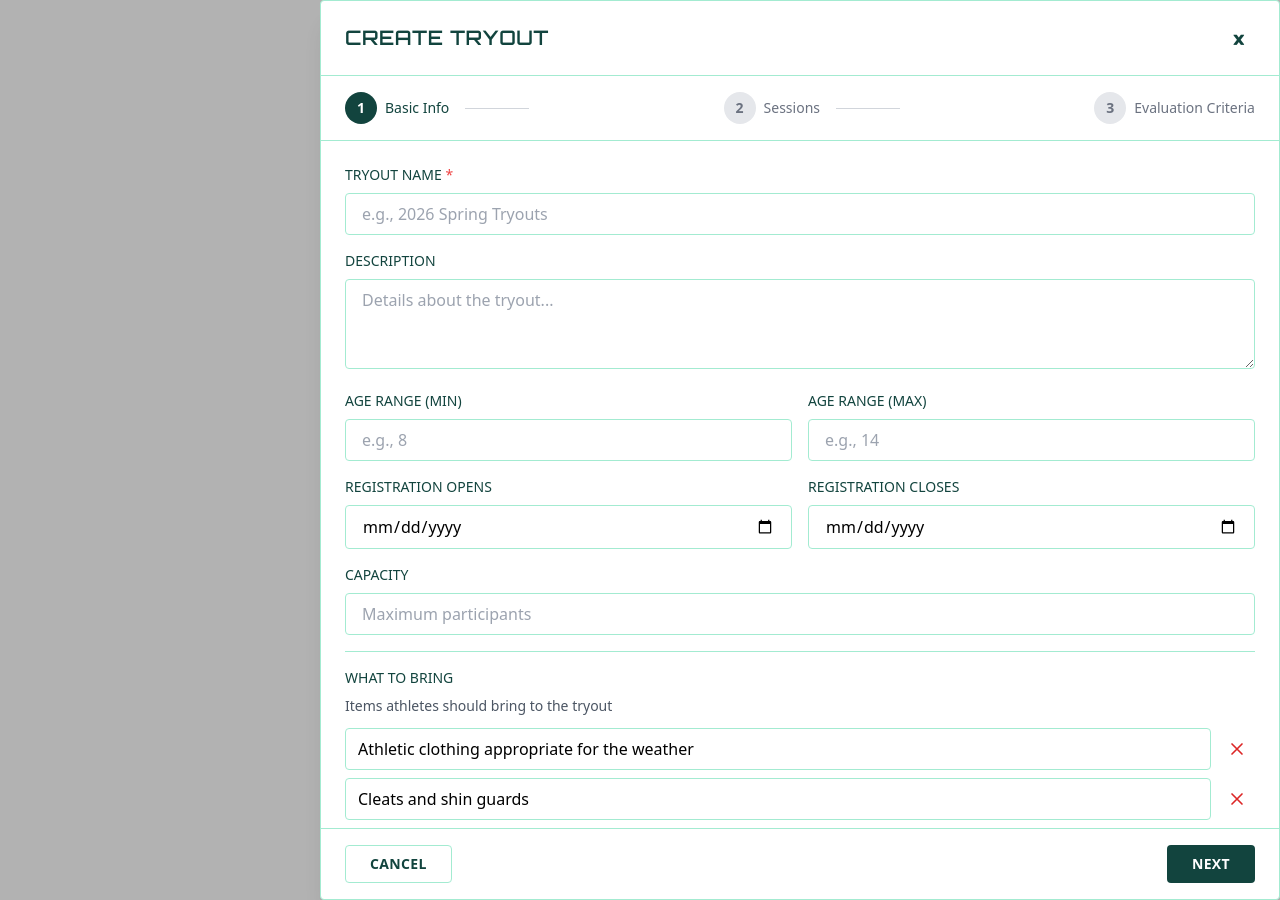
Test case: TryoutCreationWizard › can add sessions in step 2
Step 1. Type "Test Tryout" into the field with placeholder "e.g., 2026 Spring Tryouts" → (800, 214), box [345,193,1255,235]
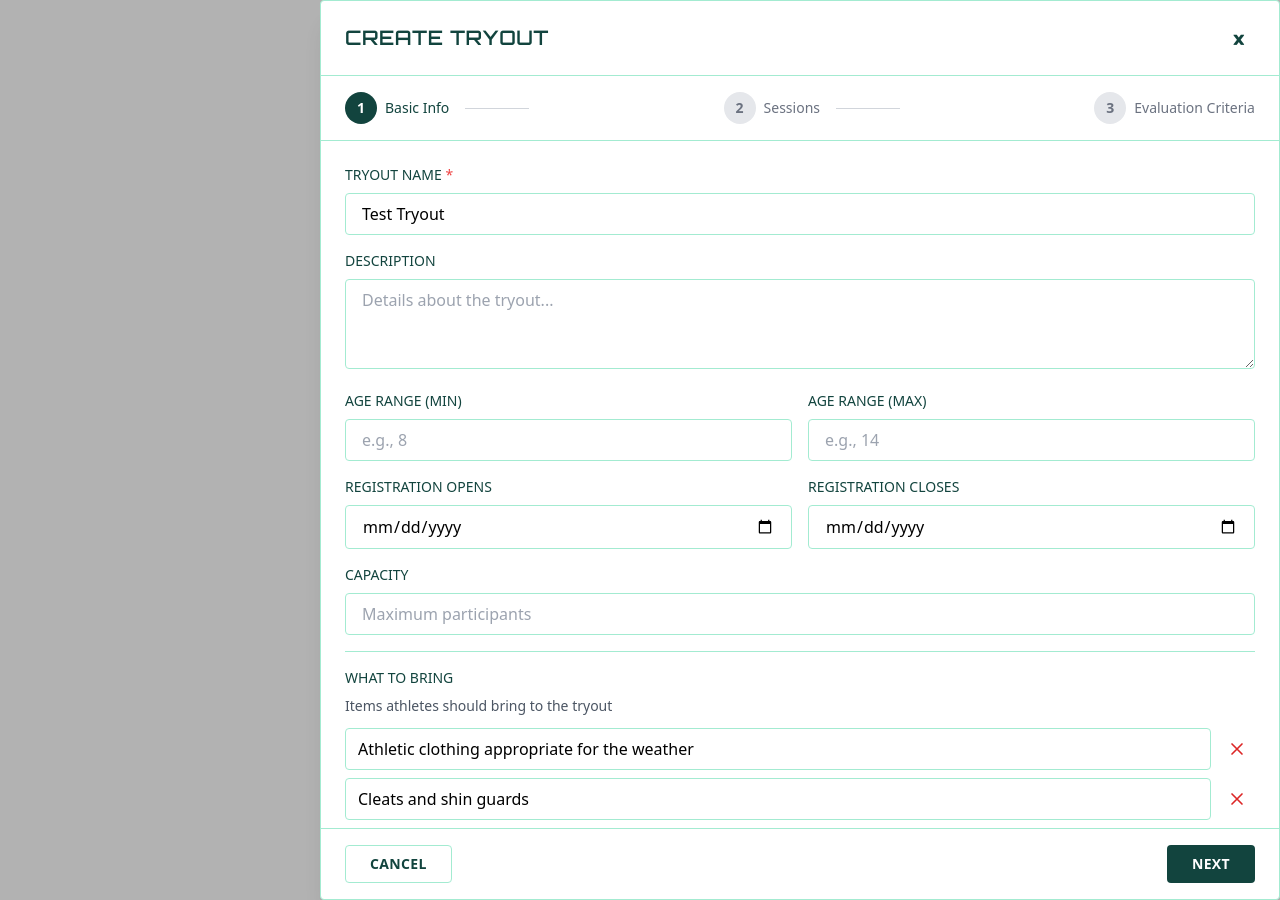
Step 2. Click the button "Next" → (1211, 864), box [1167,845,1255,883]
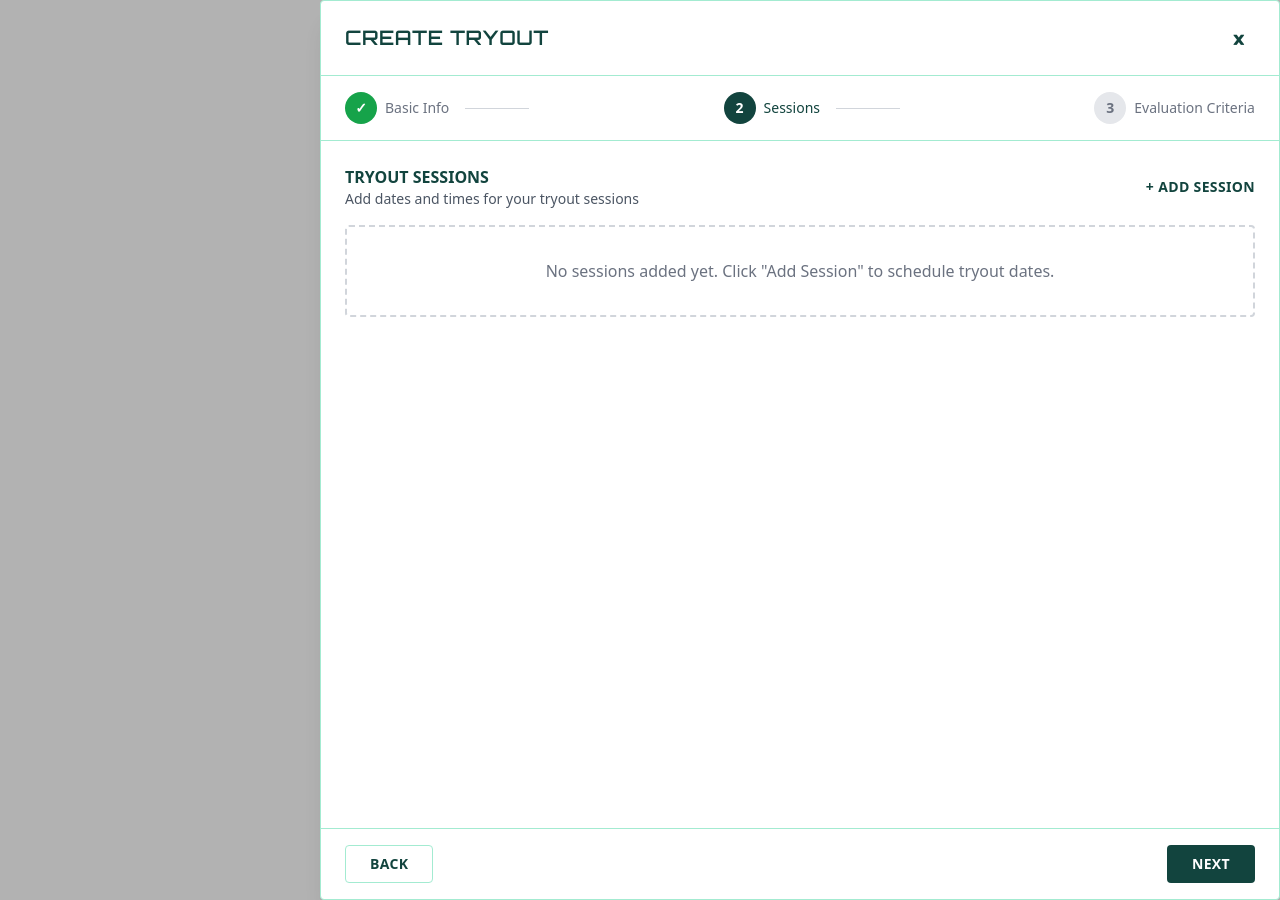
# Add a session
Step 3. Click the button "+ Add Session" → (1200, 187), box [1146,177,1255,197]
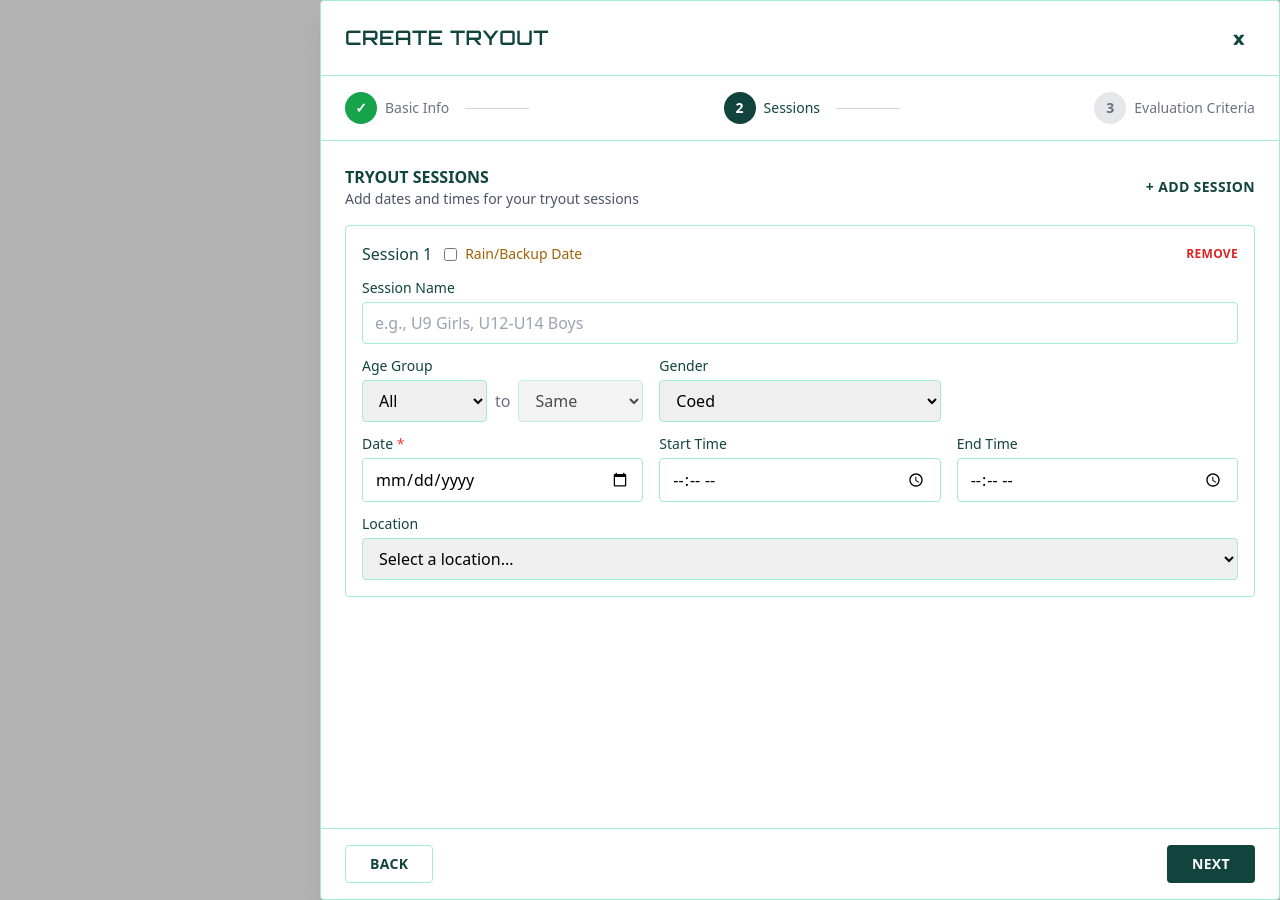
Expected: the text "Session 1" is shown, [362,242,432,266]
